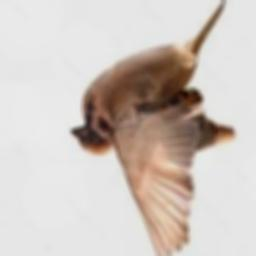Sparrow: (71, 0, 234, 256)
